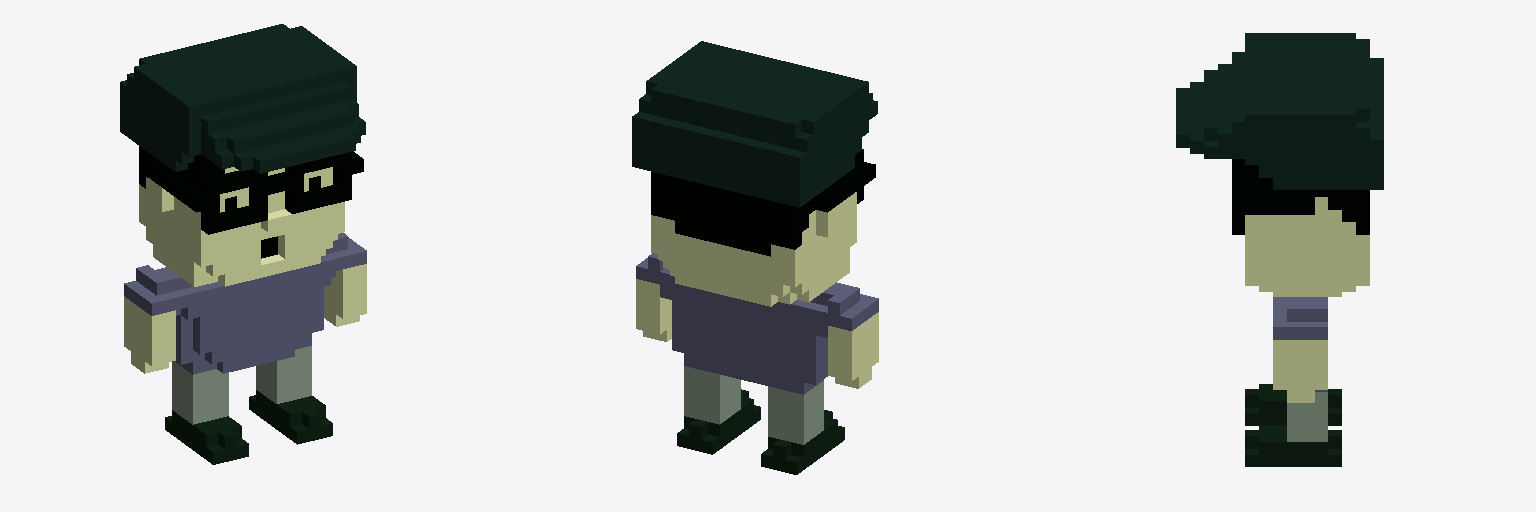
The picture shows the model from 3 angles: view 1: azimuth 30°, elevation 25°; view 2: azimuth 150°, elevation 25°; view 3: azimuth 270°, elevation 25°; orthographic projection.
Visible parts, largest first — view 1: object 1; view 2: object 1; view 3: object 1.
Boxes of the visible parts, x1,y1,x2,y2 form: object 1: [120, 24, 366, 464]; object 1: [632, 41, 878, 474]; object 1: [1176, 33, 1383, 466].
Bounding box in the file's own units: 1.8 × 2.9 × 1.5.
Materials: 1 (1 with a texture image).